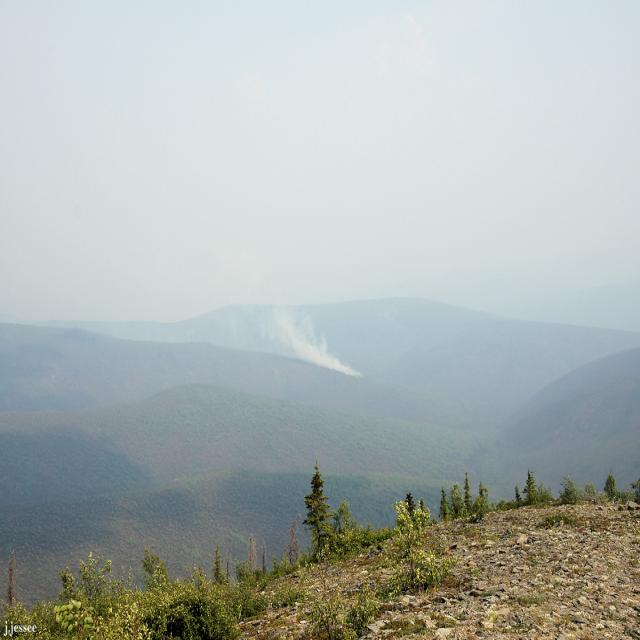Smoke: (0, 0, 373, 396)
